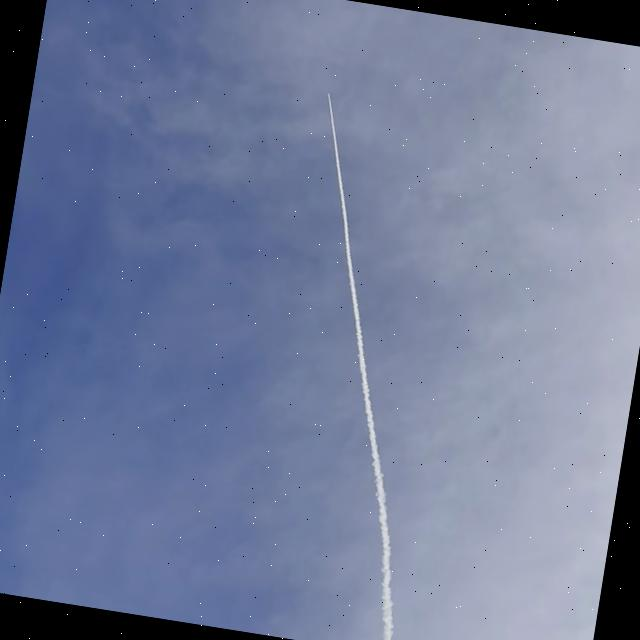smoke_trail_no_rocket: (327, 94, 392, 640)
